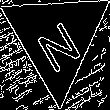N_NW: (29, 6, 84, 71)
